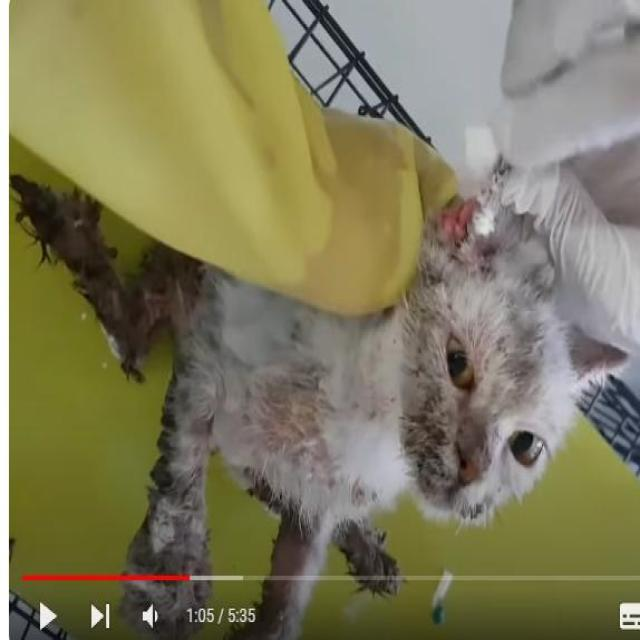ghe: (371, 304, 526, 534), (237, 359, 341, 492)
